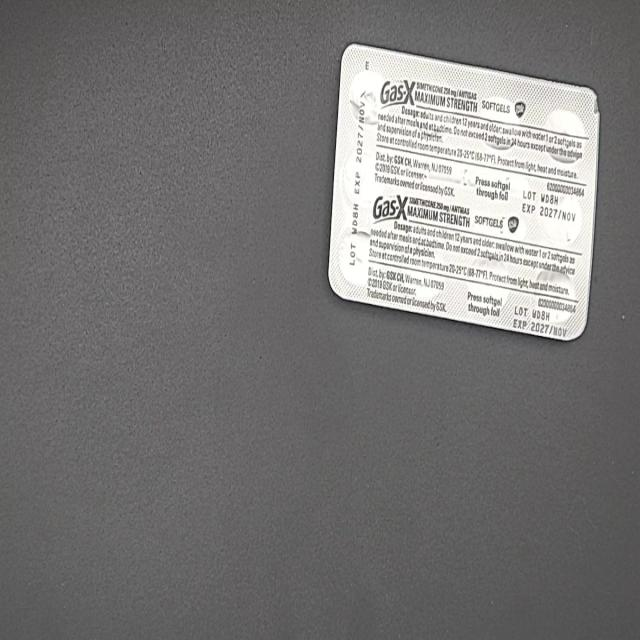no defect: (6, 10, 38, 75)
